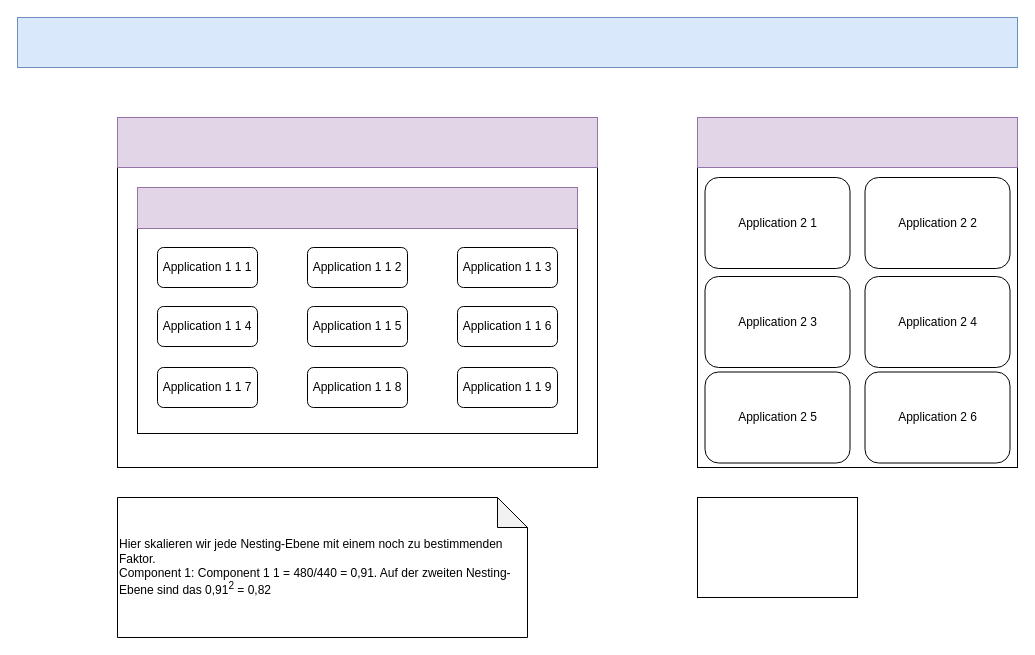
Image size: 1035x655. Some labels were removed from this diagram. Here are the shapes that lost their labels. From the top down, the box of each, then its label:
(16, 16, 1018, 68): System 1
(116, 116, 598, 168): Component 1
(696, 116, 1018, 168): Component 2
(136, 186, 578, 228): Component 1 1
(696, 496, 858, 598): One Cell
